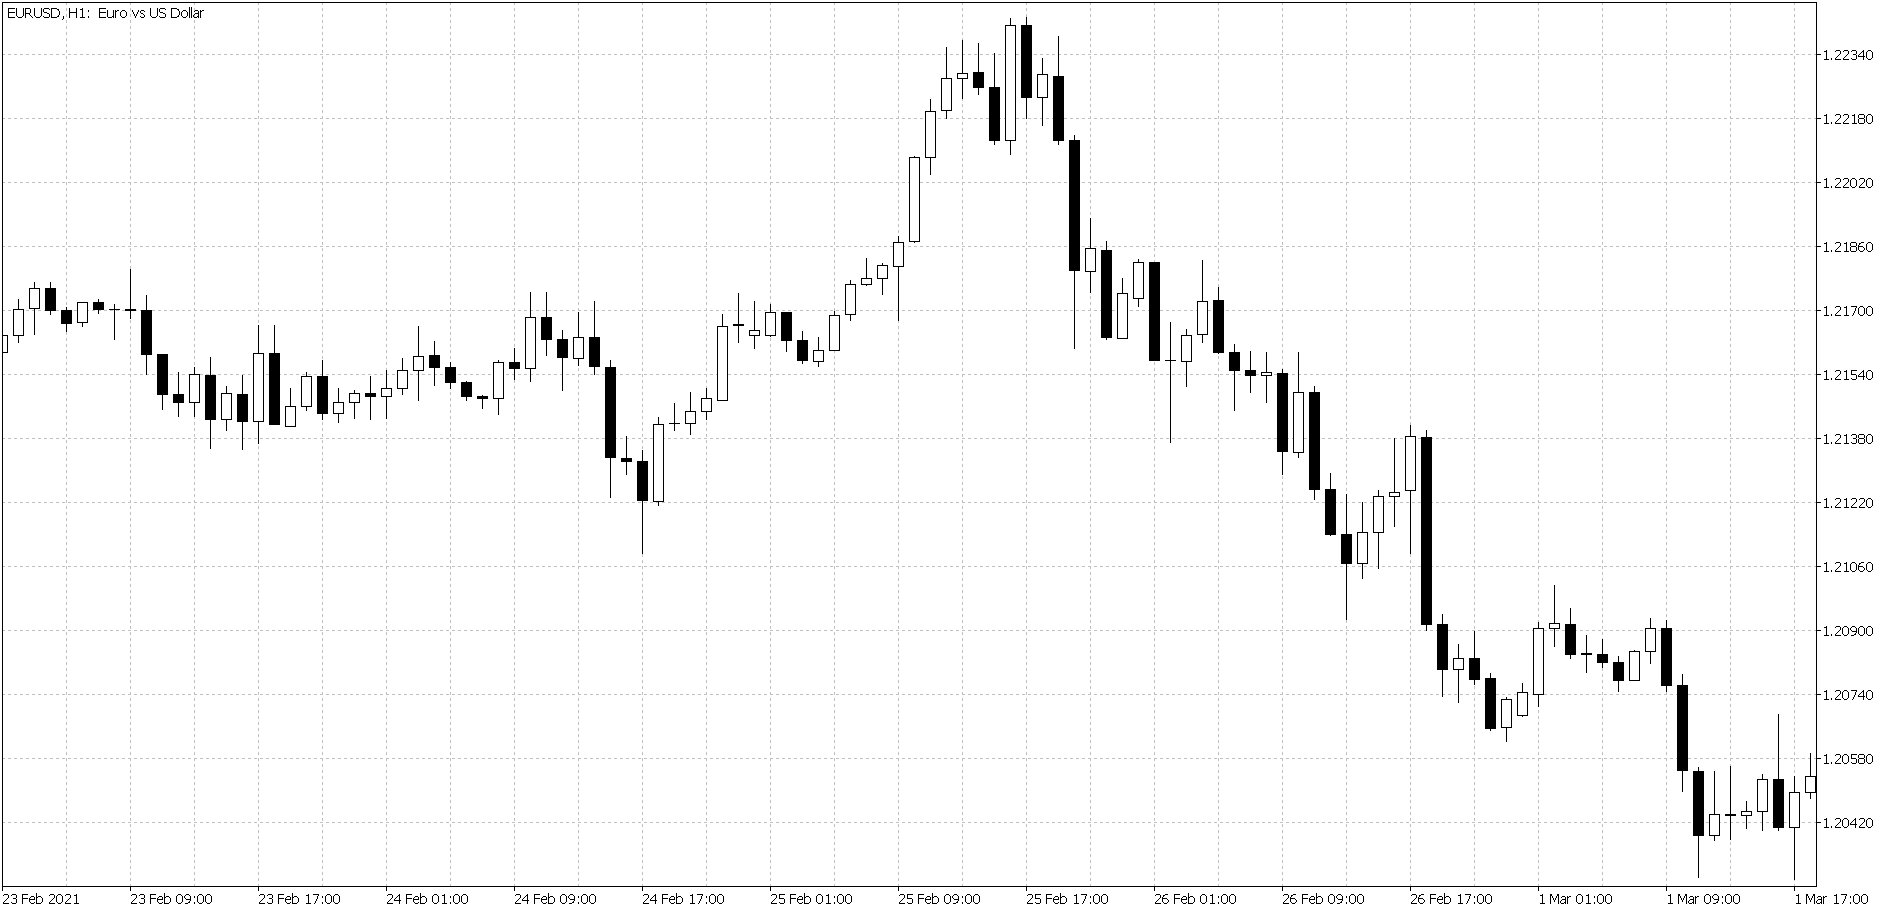3blackcrows: (1660, 618, 1706, 880)
3whitesoldiers: (812, 273, 860, 383)
bearishEngulfing: (1404, 408, 1433, 632)
bullishEngulfing: (635, 409, 667, 524)
eveningStar: (1532, 577, 1578, 704)
morningStar: (460, 351, 506, 421)
